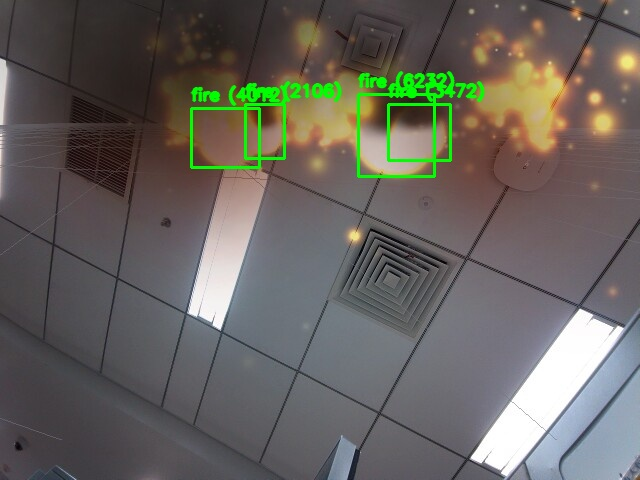fire: (358, 94, 434, 176), (191, 108, 259, 167), (388, 104, 450, 160), (245, 104, 284, 158)
